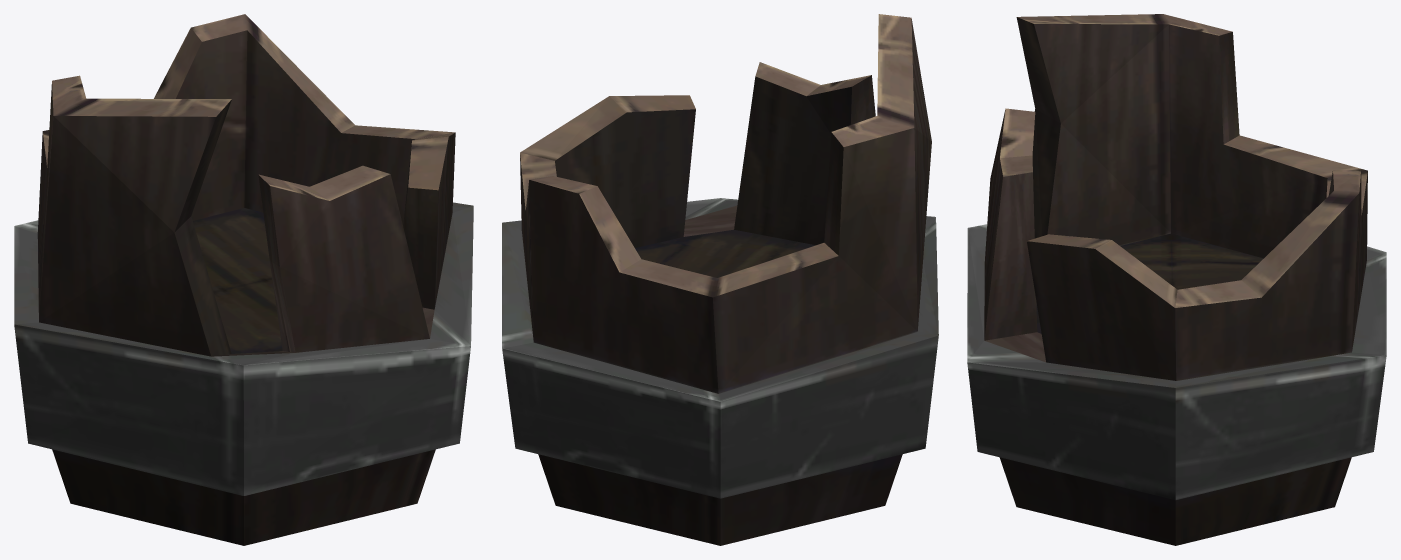
File: bandit_keg_03.fbx
3 renders of one model, left to right at view 1: azimuth 30°, elevation 25°; view 2: azimuth 150°, elevation 25°; view 3: azimuth 270°, elevation 25°, orthographic. The views are drawn at different scales.
Parts seen in each view (by area): view 1: obj0.613; view 2: obj0.613; view 3: obj0.613.
Boxes of the visible parts, x1,y1,x2,y2 form: obj0.613: (14, 14, 473, 545); obj0.613: (502, 14, 938, 545); obj0.613: (967, 14, 1386, 545).
Size of the model in its own units: 0.9904 by 0.9069 by 0.8526.
